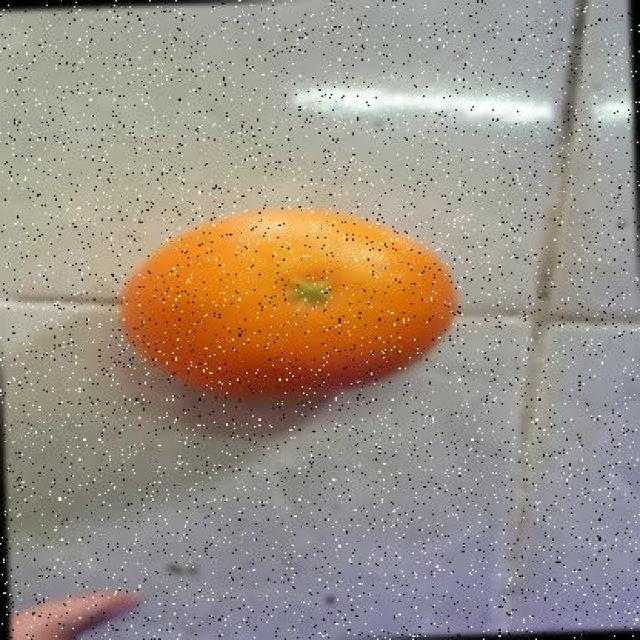Orange: (118, 205, 460, 402)
